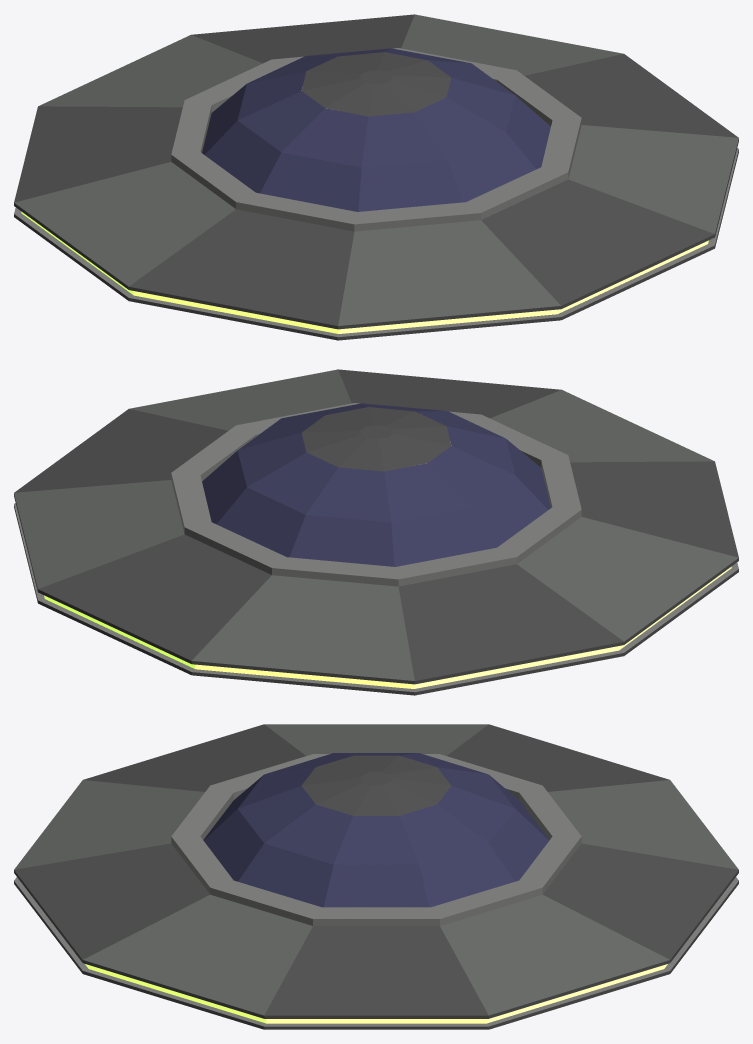
Rendered from modelDraco-transformed.glb.
3 views of the same model, one above another, from view 1: azimuth 30°, elevation 25°; view 2: azimuth 150°, elevation 25°; view 3: azimuth 270°, elevation 25° (orthographic). The views are drawn at different scales.
Visible parts, largest first — view 1: Object_4, Object_7, Object_6, Object_5; view 2: Object_4, Object_7, Object_6, Object_5; view 3: Object_4, Object_7, Object_6, Object_5.
Boxes of the visible parts, left/top/right/bottom form: Object_4: left=14, top=14, right=738, bottom=340; Object_7: left=202, top=48, right=550, bottom=211; Object_6: left=14, top=48, right=738, bottom=337; Object_5: left=21, top=90, right=708, bottom=333; Object_4: left=14, top=369, right=738, bottom=695; Object_7: left=202, top=403, right=550, bottom=566; Object_6: left=14, top=403, right=738, bottom=692; Object_5: left=44, top=445, right=731, bottom=688; Object_4: left=14, top=724, right=738, bottom=1029; Object_7: left=203, top=753, right=549, bottom=907; Object_6: left=14, top=754, right=738, bottom=1026; Object_5: left=85, top=964, right=667, bottom=1023.
Size of the model in its own units: 1.9 by 0.4889 by 2.
4 materials, 4 textured.
